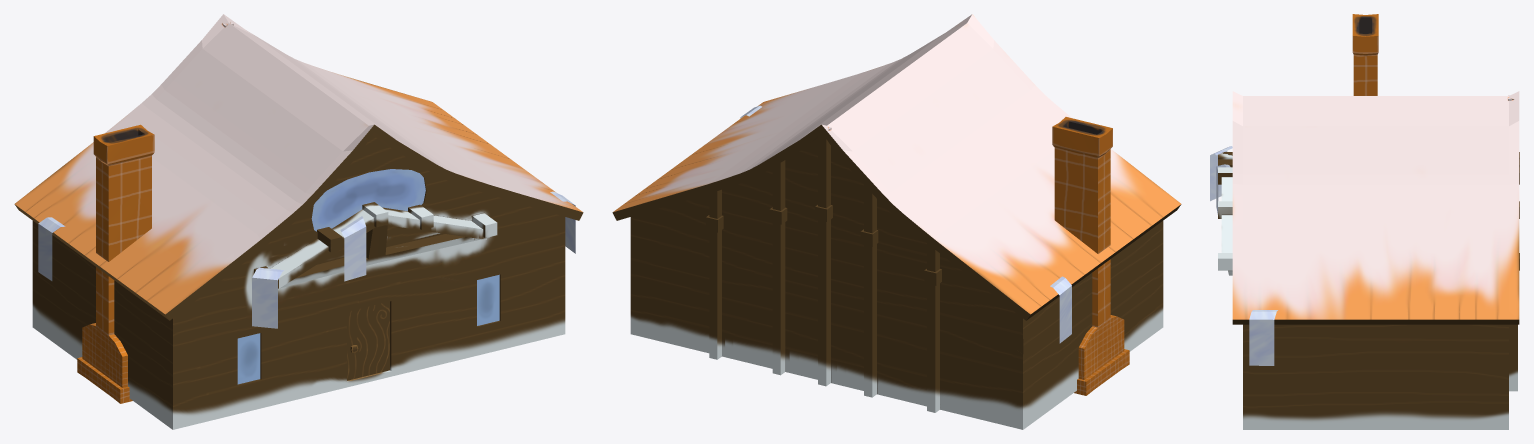
The model's file is santas_house.glb.
3 renders of one model, left to right at view 1: azimuth 30°, elevation 25°; view 2: azimuth 150°, elevation 25°; view 3: azimuth 270°, elevation 25°, orthographic. The views are drawn at different scales.
Parts seen in each view (by area): view 1: Shell, Chimne, IceSheets, Door; view 2: Shell, Chimne, IceSheets; view 3: Shell, Chimne, IceSheets.
Part boxes in pixels (x1,y1,x2,y2): Shell: (14, 14, 583, 429); Chimne: (77, 124, 154, 403); IceSheets: (38, 191, 575, 328); Door: (347, 301, 389, 380); Shell: (612, 14, 1181, 429); Chimne: (1052, 117, 1129, 395); IceSheets: (740, 105, 1071, 343); Shell: (1218, 91, 1519, 429); Chimne: (1352, 14, 1378, 95); IceSheets: (1210, 146, 1277, 365).
Size of the model in its own units: 19.42 by 11.65 by 13.02.
4 materials, 4 textured.
